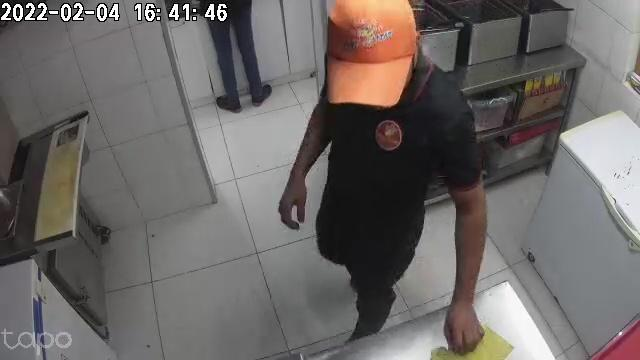no_gloves: (278, 170, 309, 229)
